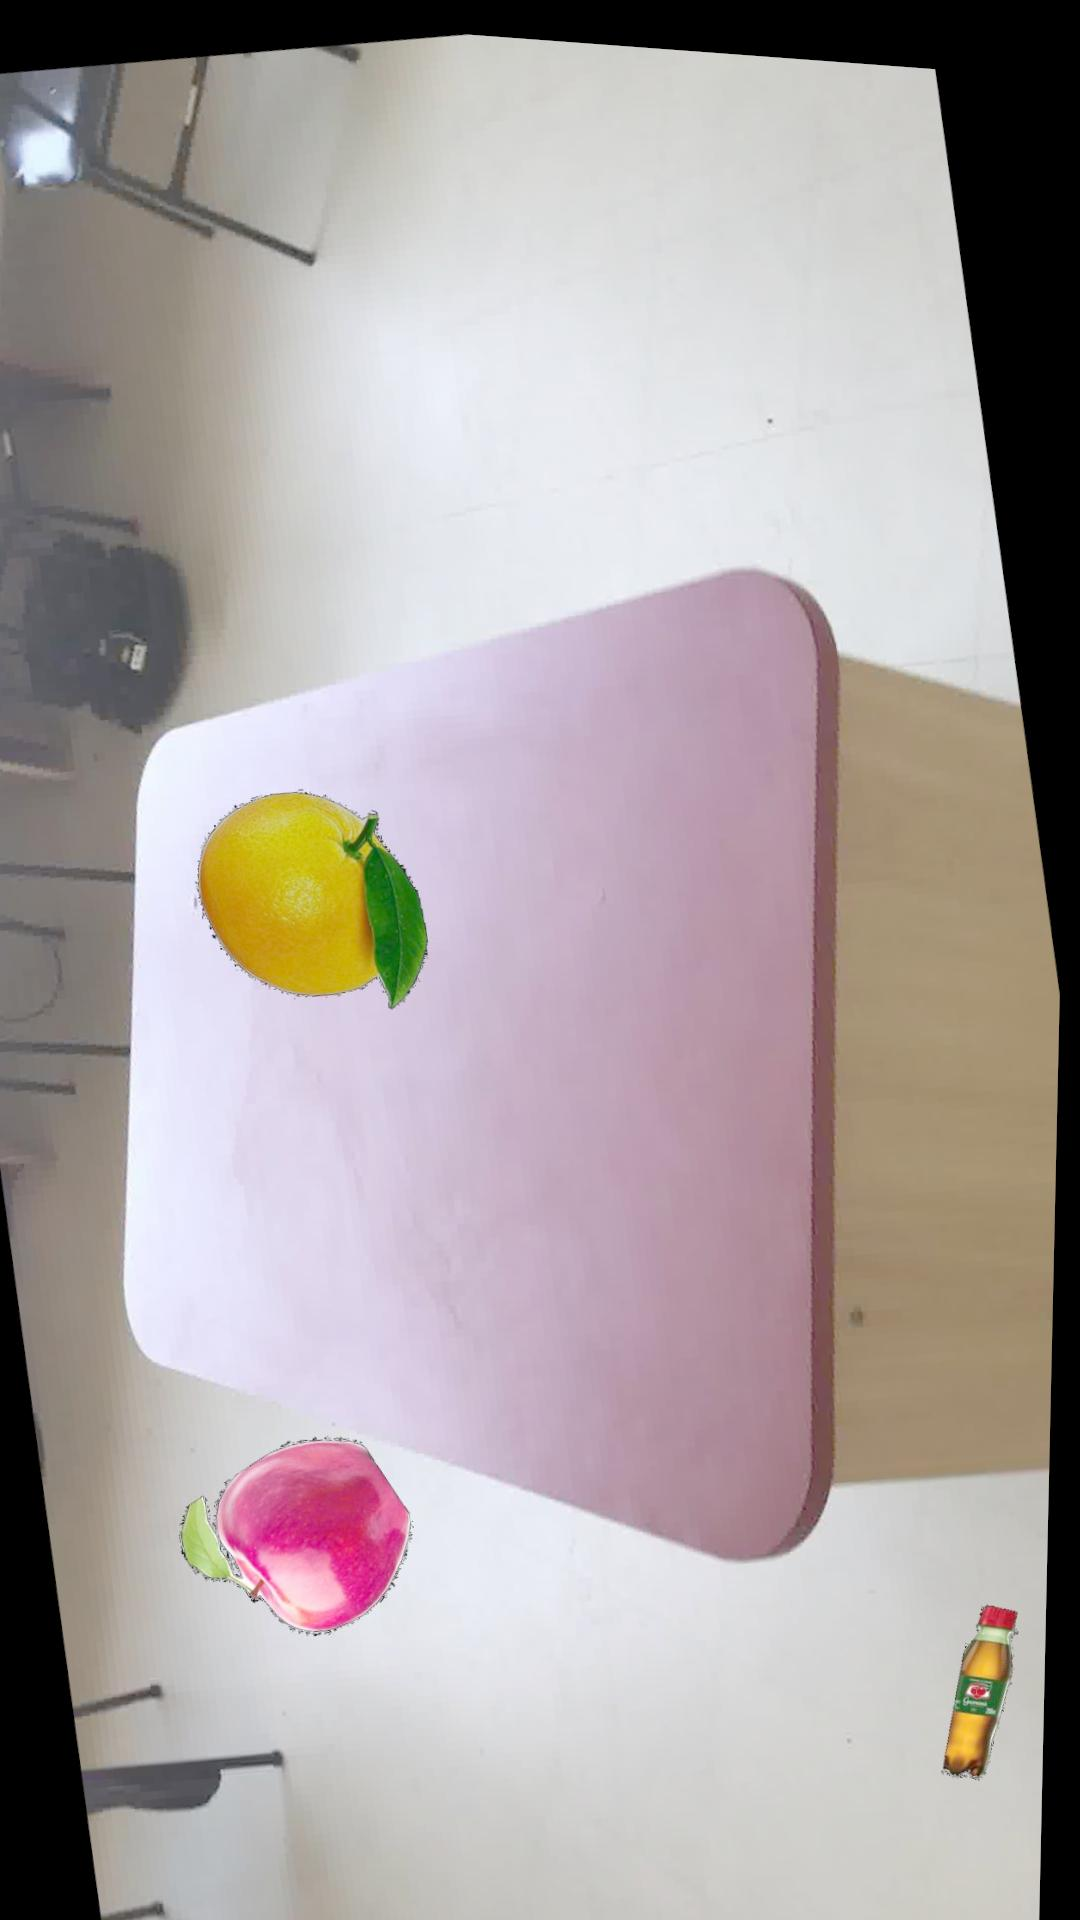apple: (189, 1432, 421, 1627)
guarana: (951, 1589, 1026, 1764)
orange: (203, 787, 434, 1004)
